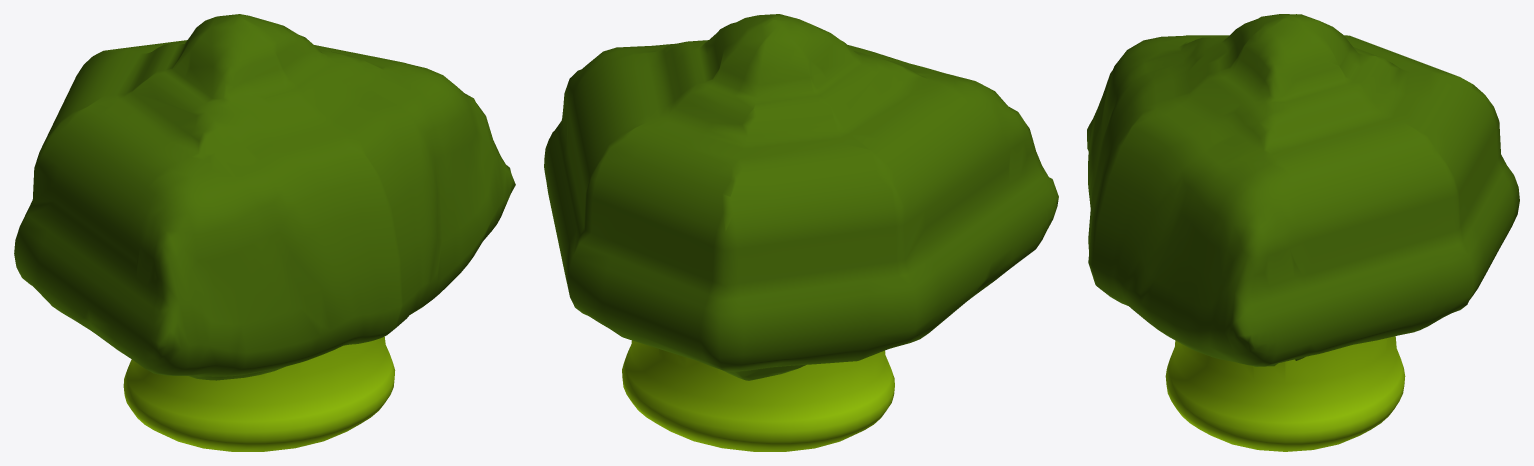
Rendered from Bala Brocolis.fbx.
3 views of the same model, side by side, from view 1: azimuth 30°, elevation 25°; view 2: azimuth 150°, elevation 25°; view 3: azimuth 270°, elevation 25° (orthographic). The views are drawn at different scales.
Visible parts, largest first — view 1: polySurface5; view 2: polySurface5; view 3: polySurface5.
Part boxes in pixels (x1,y1,x2,y2): polySurface5: (14,14,515,451); polySurface5: (544,14,1058,451); polySurface5: (1087,14,1519,451).
Bounding box in the file's own units: 4.28 × 3.82 × 3.82.
1 material, 1 textured.
